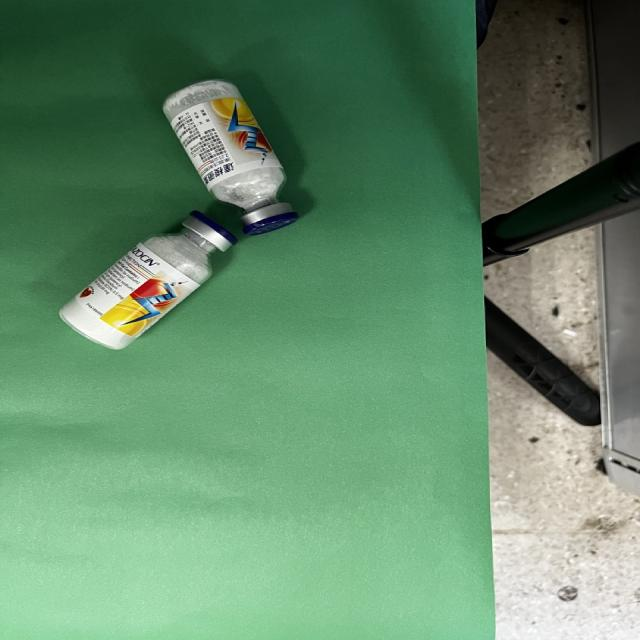Vials: (60, 212, 237, 350), (164, 79, 299, 236)
